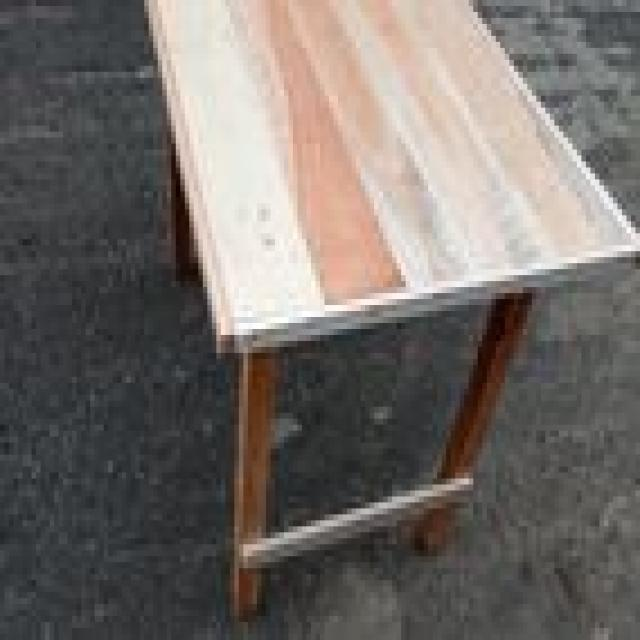others: (140, 6, 631, 616)
